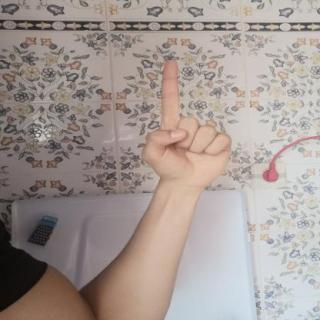BAA: (129, 53, 243, 192)
